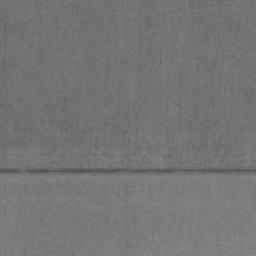Welding line: (0, 166, 256, 177)
